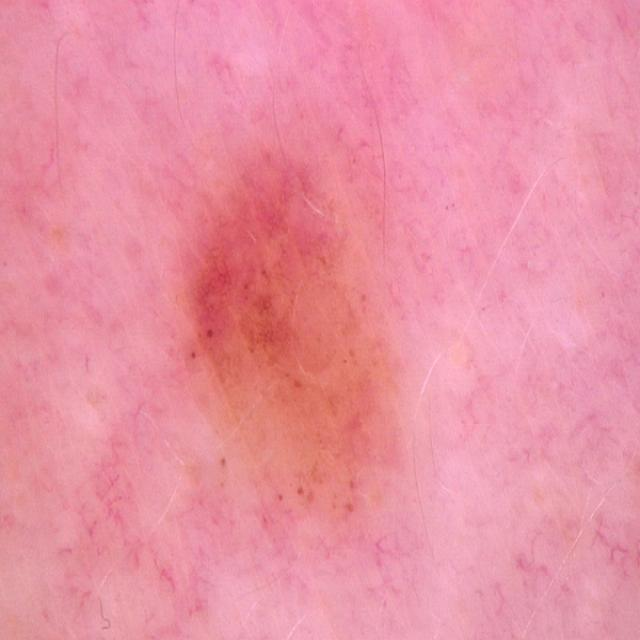NV: (174, 145, 404, 538)
